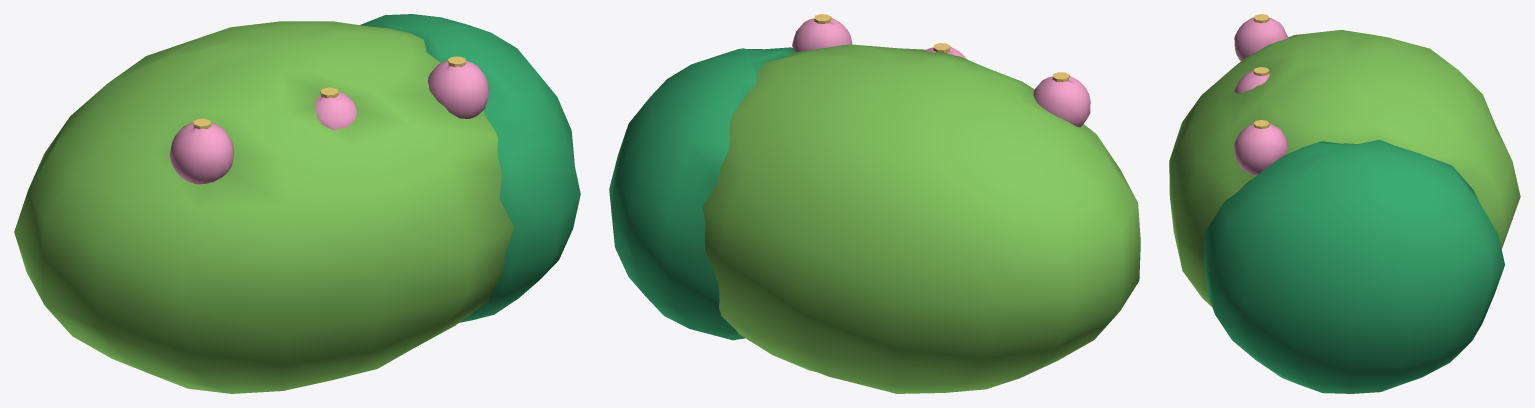
Rendered from shrub.glb.
3 renders of one model, left to right at view 1: azimuth 30°, elevation 25°; view 2: azimuth 150°, elevation 25°; view 3: azimuth 270°, elevation 25°, orthographic. The views are drawn at different scales.
Visible parts, largest first — view 1: hedge, hedge lobe, bloom, flower heart; view 2: hedge, hedge lobe, bloom, flower heart; view 3: hedge lobe, hedge, bloom, flower heart.
Part boxes in pixels (<box>): hedge: <box>14,21,514,393</box>; hedge lobe: <box>360,14,580,322</box>; bloom: <box>169,60,488,184</box>; flower heart: <box>193,56,465,129</box>; hedge: <box>702,44,1140,393</box>; hedge lobe: <box>609,47,795,340</box>; bloom: <box>792,18,1090,127</box>; flower heart: <box>814,14,1069,81</box>; hedge lobe: <box>1204,140,1504,393</box>; hedge: <box>1169,29,1520,306</box>; bloom: <box>1234,17,1288,174</box>; flower heart: <box>1253,14,1269,128</box>.
Bounding box in the file's own units: 1.02 × 0.6 × 0.7011.
